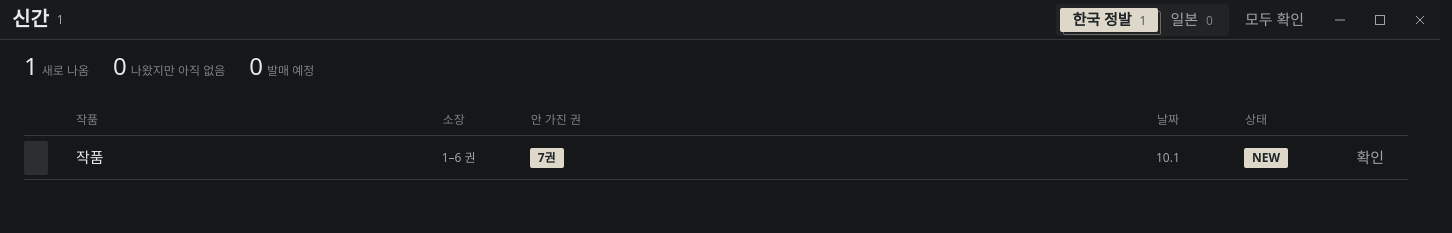
Test case: keeps the notification when confirmation fails
What coordinates should you click on to do the following:
click the button with aria-label "작품 확인"
I would click on:
 (1370, 158)
Its box is x1=1348 y1=144 x2=1392 y2=172.
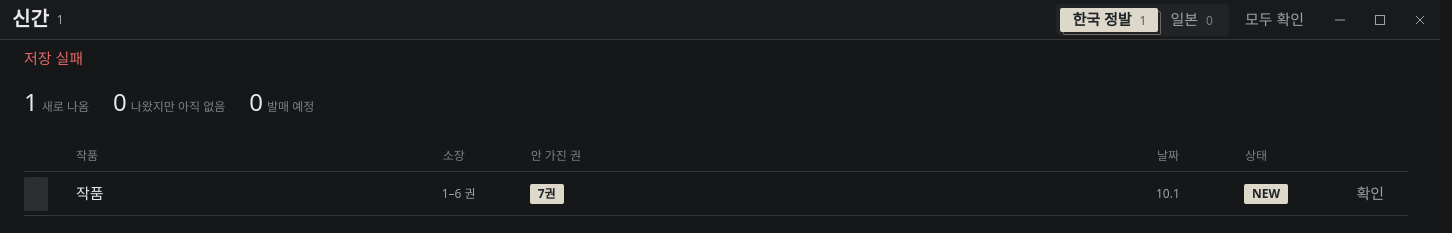
Check: the text named "새 알림 1개" is shown, box x1=1244 y1=184 x2=1288 y2=204
Check: the message "저장 실패" is shown, box x1=24 y1=48 x2=83 y2=68
